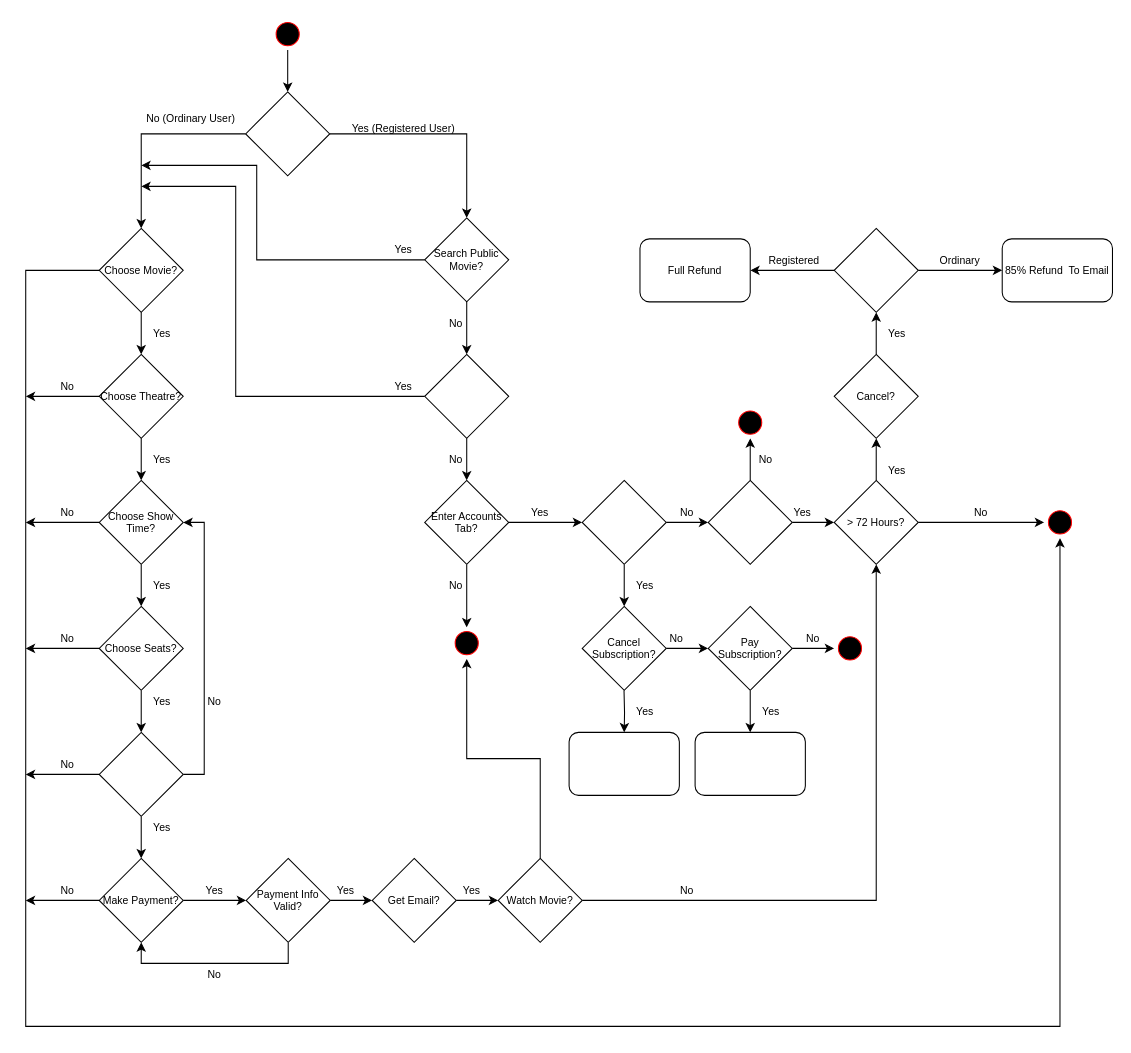
The diagram is 1131 pixels wide and 1053 high, and some of its shapes have lost their labels. The centre of each missing label's shape, as x and y in pixels:
"Cancel Subscription" belongs at [623,763].
"Check Orders?" belongs at [749,521].
"Login?" belongs at [287,133].
"Pay Subscription" belongs at [749,763].
"Search Private Movie?" belongs at [466,395].
"Seats Available?" belongs at [140,773].
"Subscription Management?" belongs at [623,521].
"User Type" belongs at [875,269].
